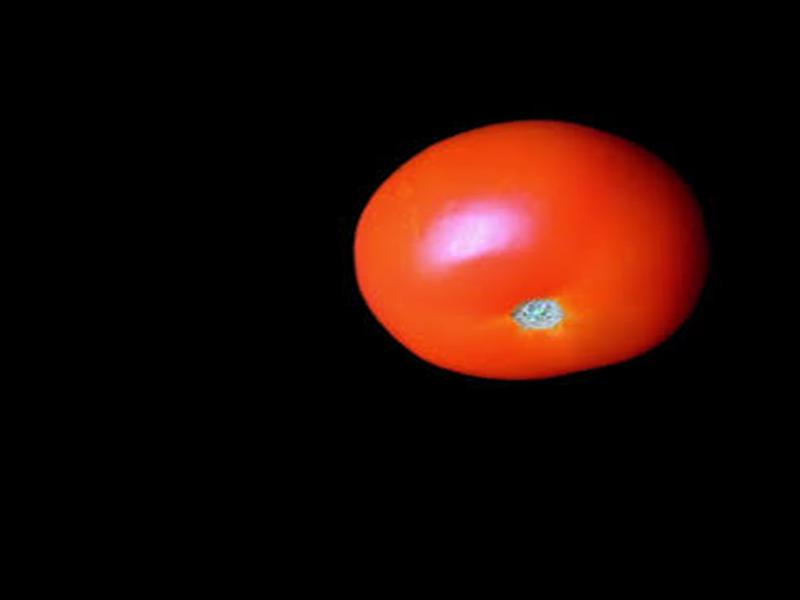Tomato: (346, 112, 714, 387)
